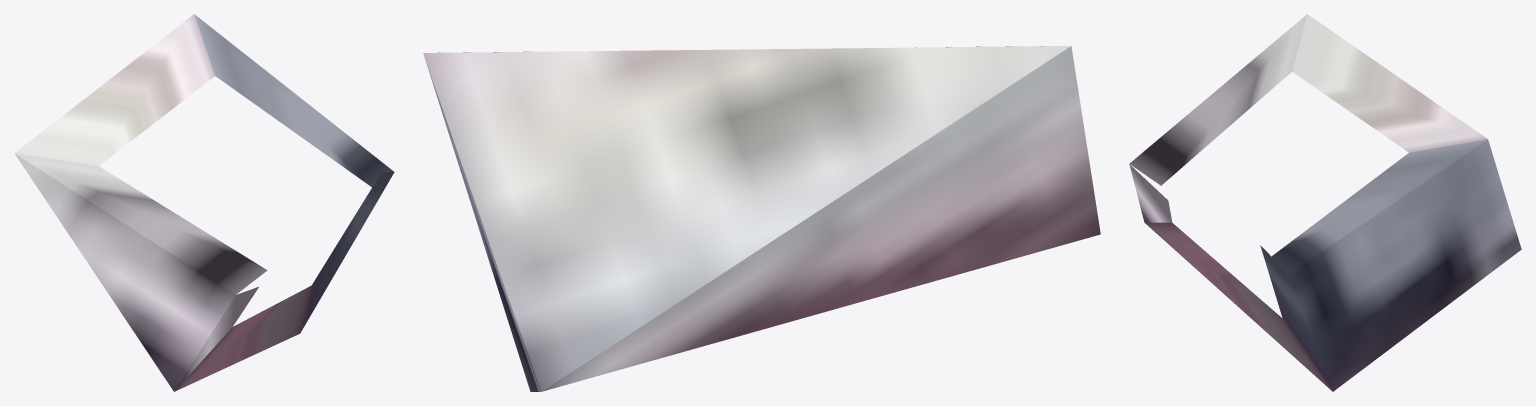
3 views of the same model, side by side, from view 1: azimuth 30°, elevation 25°; view 2: azimuth 150°, elevation 25°; view 3: azimuth 270°, elevation 25° (orthographic). The views are drawn at different scales.
Bounding box in the file's own units: 5.98 × 4.07 × 5.96.
Materials: 1 (1 with a texture image).
